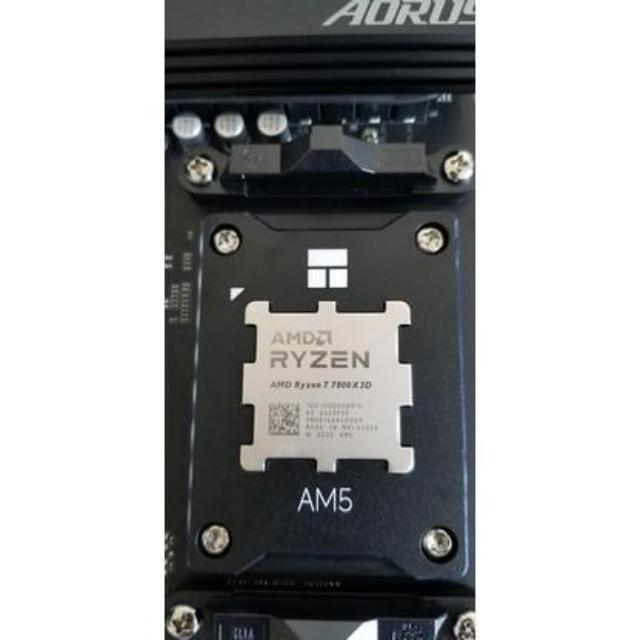CPU: (230, 290, 424, 484)
